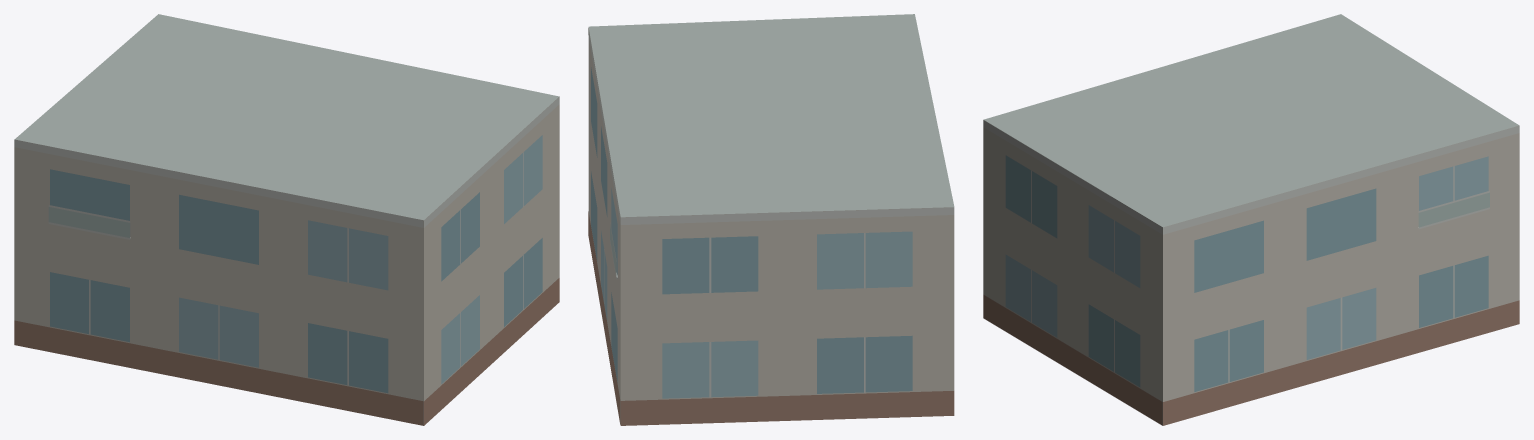
File: survey-upis-32681668.glb
3 renders of one model, left to right at view 1: azimuth 30°, elevation 25°; view 2: azimuth 150°, elevation 25°; view 3: azimuth 270°, elevation 25°, orthographic. The views are drawn at different scales.
Visible parts, largest first — view 1: survey-upis-32681668.tmp; view 2: survey-upis-32681668.tmp; view 3: survey-upis-32681668.tmp.
Boxes of the visible parts, <box> form: survey-upis-32681668.tmp: <box>14,14,559,425</box>; survey-upis-32681668.tmp: <box>588,14,954,425</box>; survey-upis-32681668.tmp: <box>983,14,1519,425</box>.
Bounding box in the file's own units: 15 × 6.5 × 15.93.
